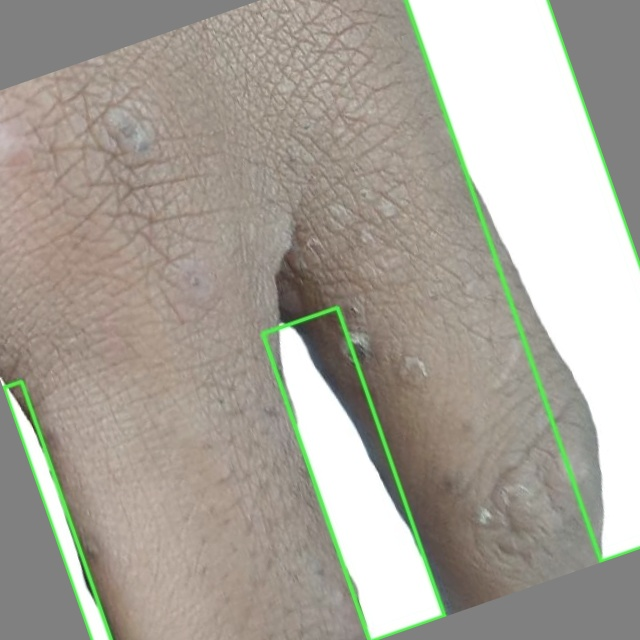Scabies: (406, 0, 639, 561), (262, 307, 444, 639), (3, 381, 111, 639)
